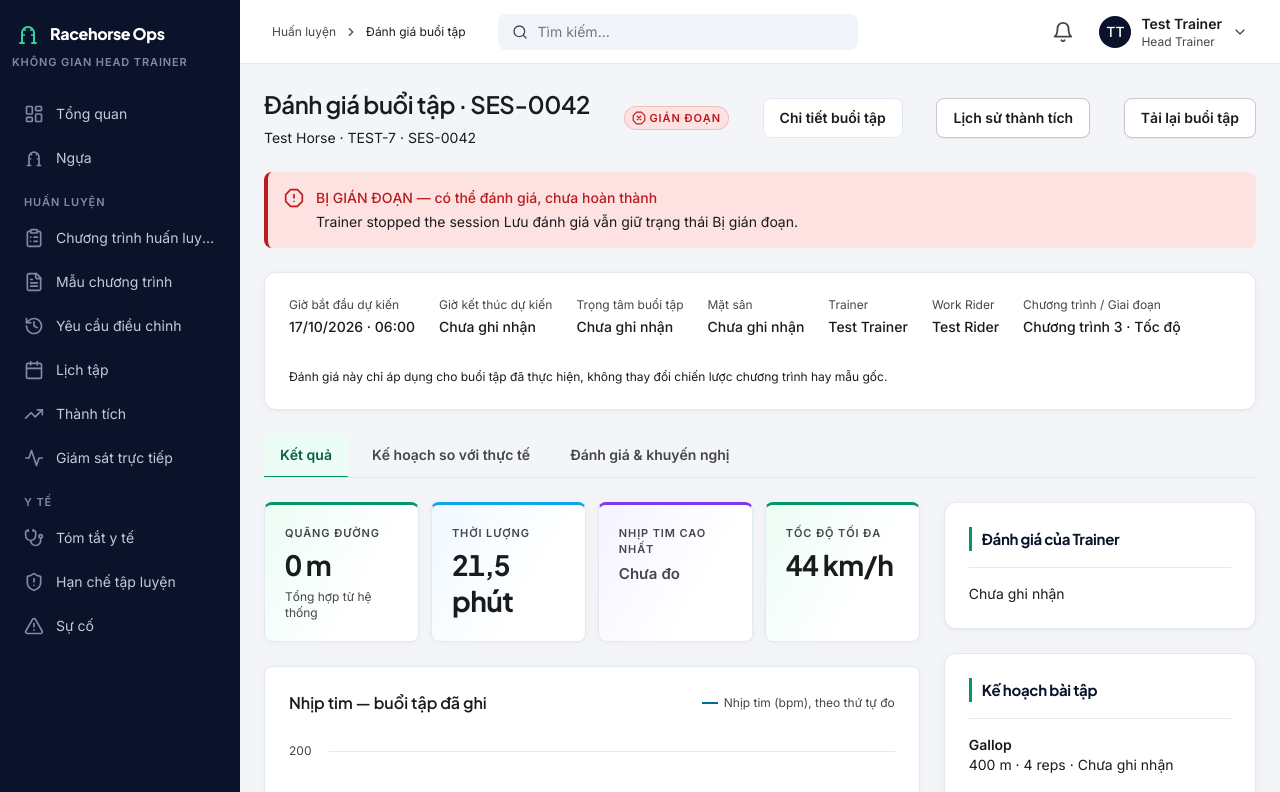
it: CORE-033 production route and auth boundary › keeps Head Trainer evaluation read-only
What coordinates should you click on to do the following:
click the tab "Đánh giá & khuyến nghị"
I would click on:
 (650, 456)
Its box is [554,434,745,478].
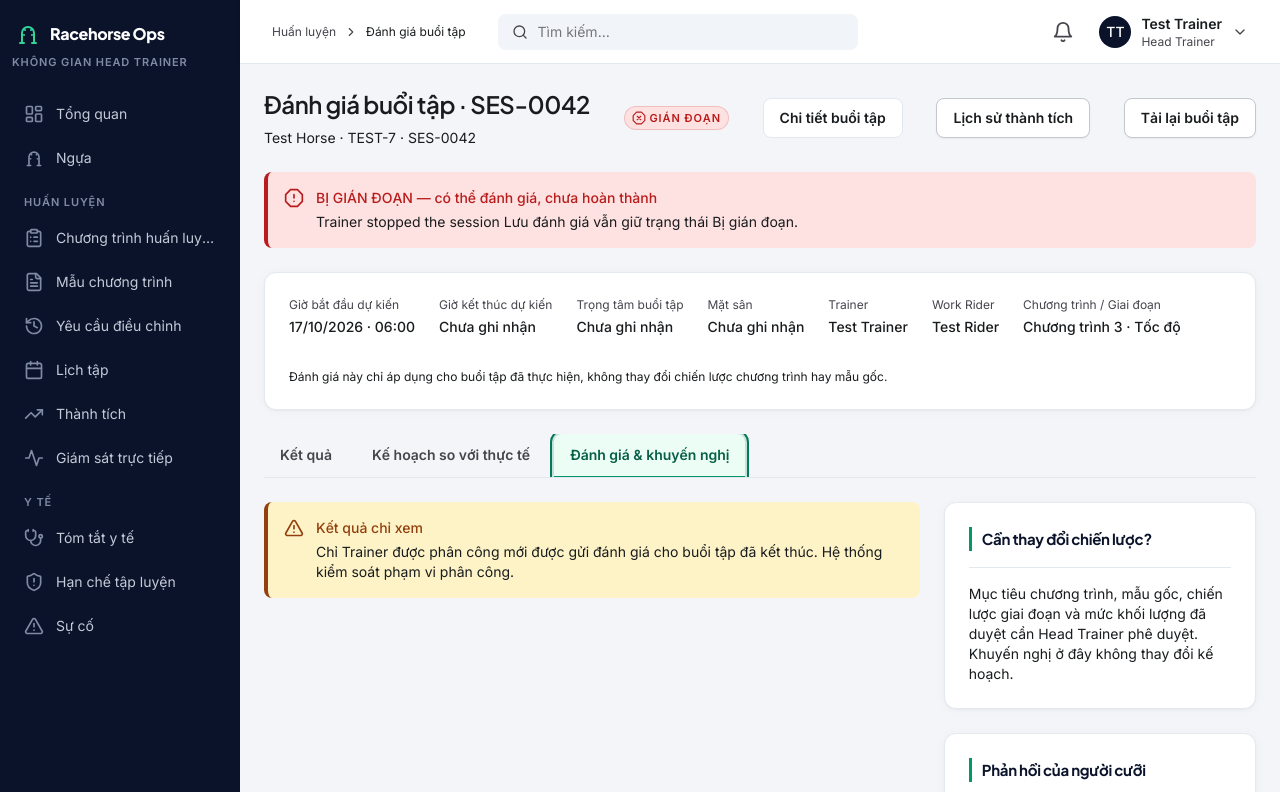
Result: the text "Kết quả chỉ xem" is shown at [316,519,423,536]
